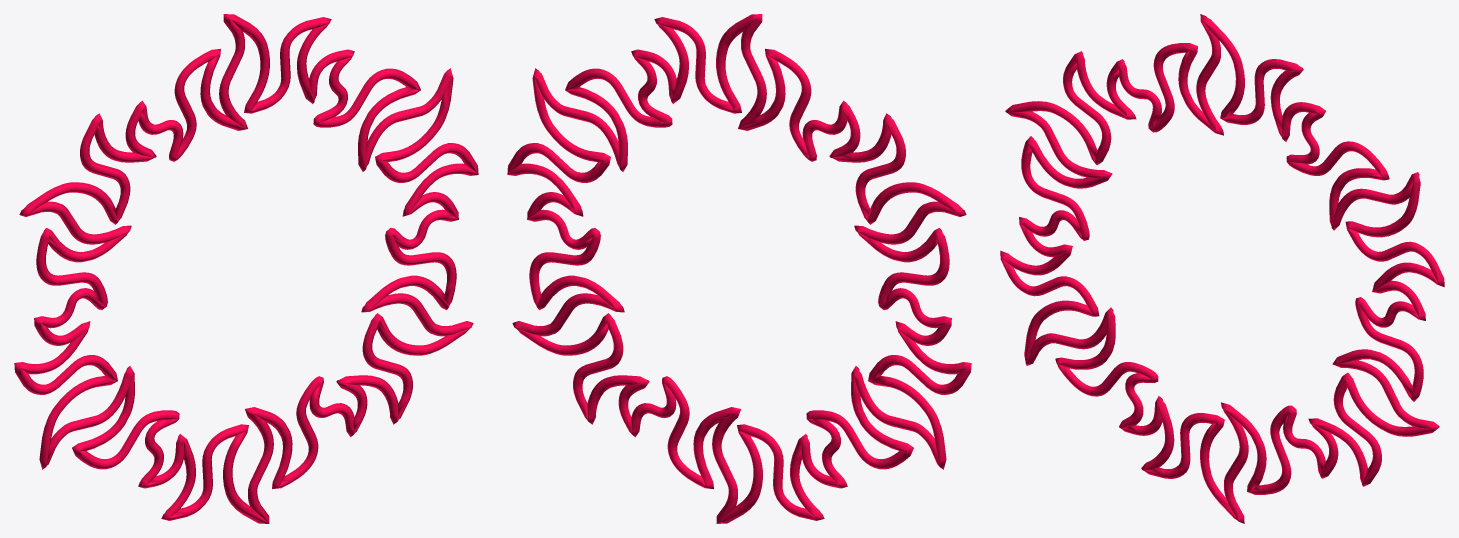
The model's file is circles.obj.
The picture shows the model from 3 angles, left to right: view 1: azimuth 30°, elevation 25°; view 2: azimuth 150°, elevation 25°; view 3: azimuth 330°, elevation 25°; orthographic projection. The views are drawn at different scales.
Visible parts, largest first — view 1: C_Pink_L; view 2: C_Pink_L; view 3: C_Pink_L.
Boxes of the visible parts, bbox=[...] form: C_Pink_L: bbox=[14, 14, 478, 523]; C_Pink_L: bbox=[507, 14, 971, 523]; C_Pink_L: bbox=[1000, 14, 1444, 523].
Bounding box in the file's own units: 8.13 × 8.72 × 0.1709.
